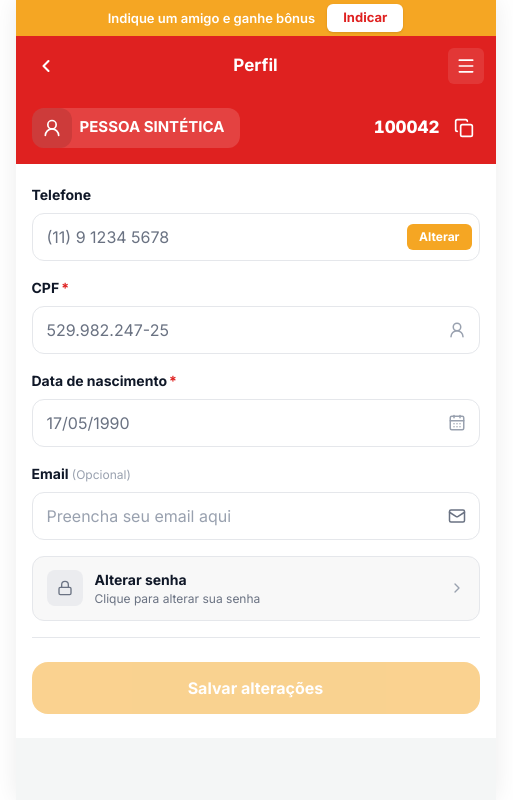
Scenario: Perfil: copiar ID › copia o ID e avisa
This screenshot has width=513, height=800.
Click the button named "Copiar ID" at (464, 128), box [448, 112, 480, 144]
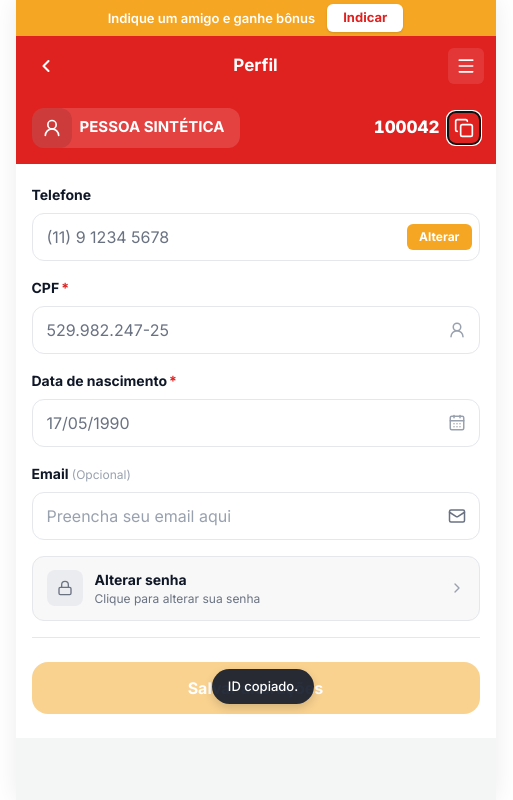
Now the text "ID copiado." is shown, box [212, 668, 314, 704]
